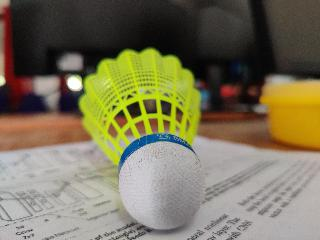shuttlecock: (78, 47, 204, 229)
